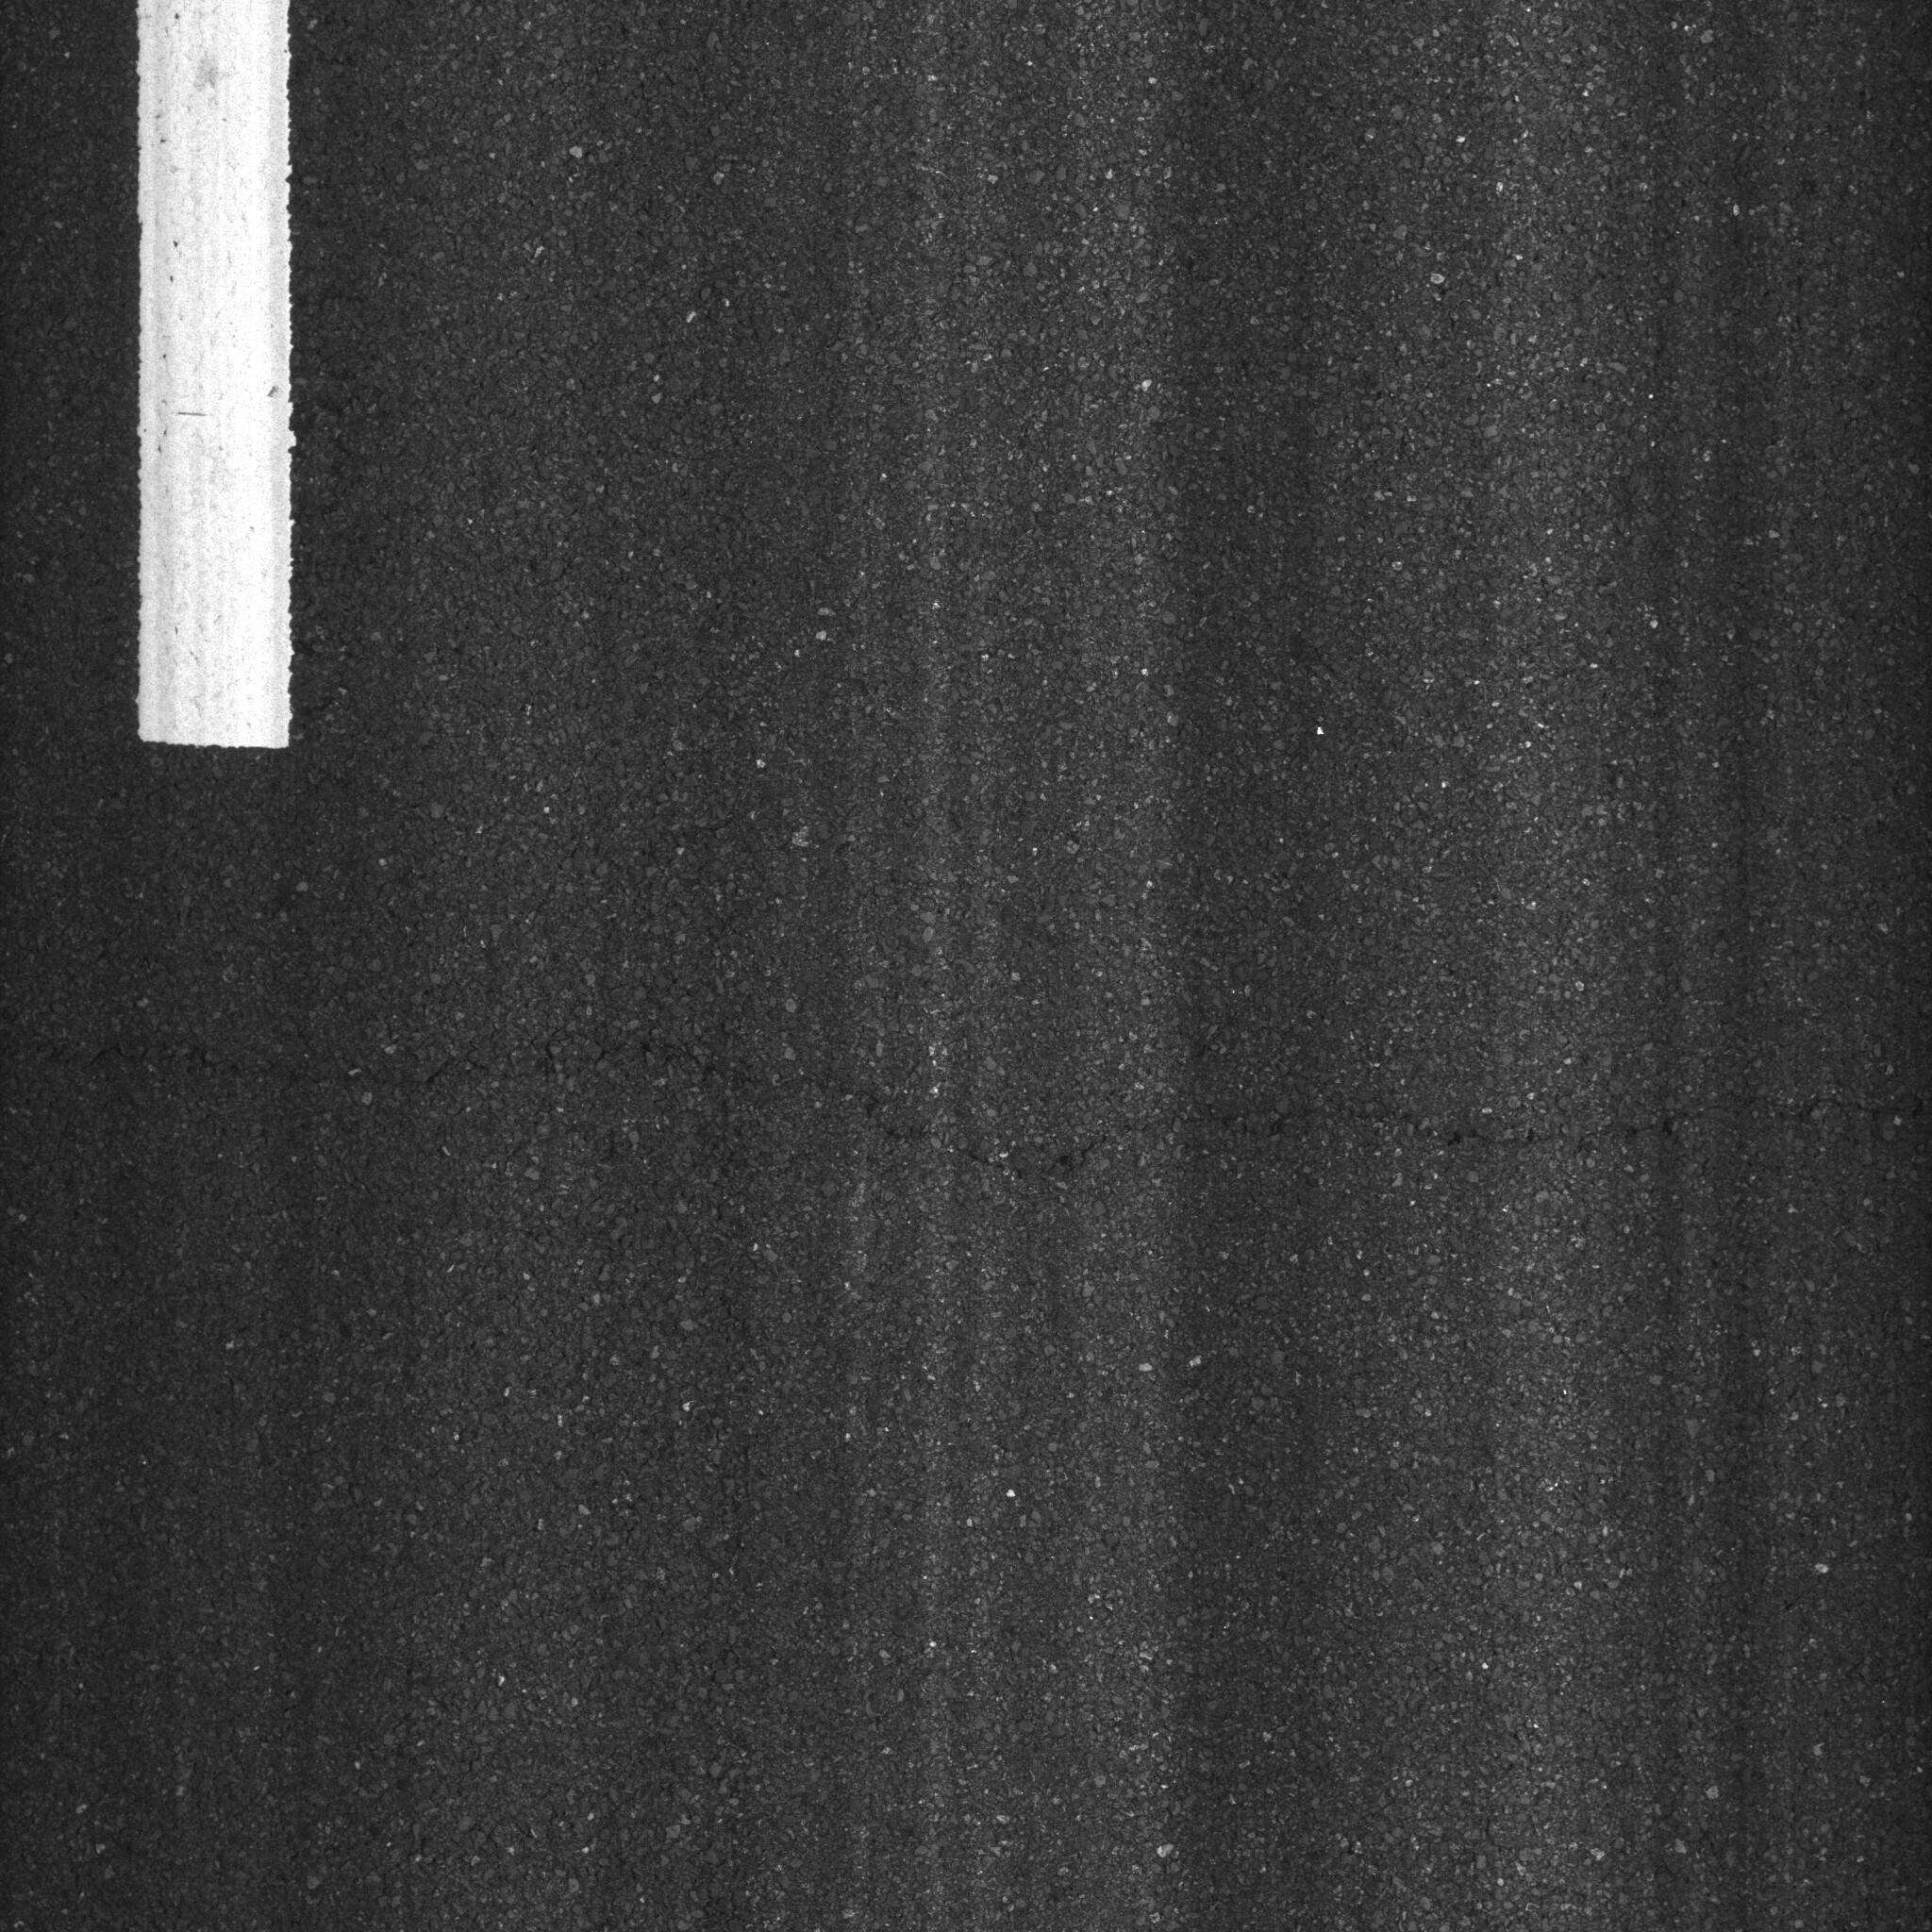transverse: (21, 954, 1844, 1253)
